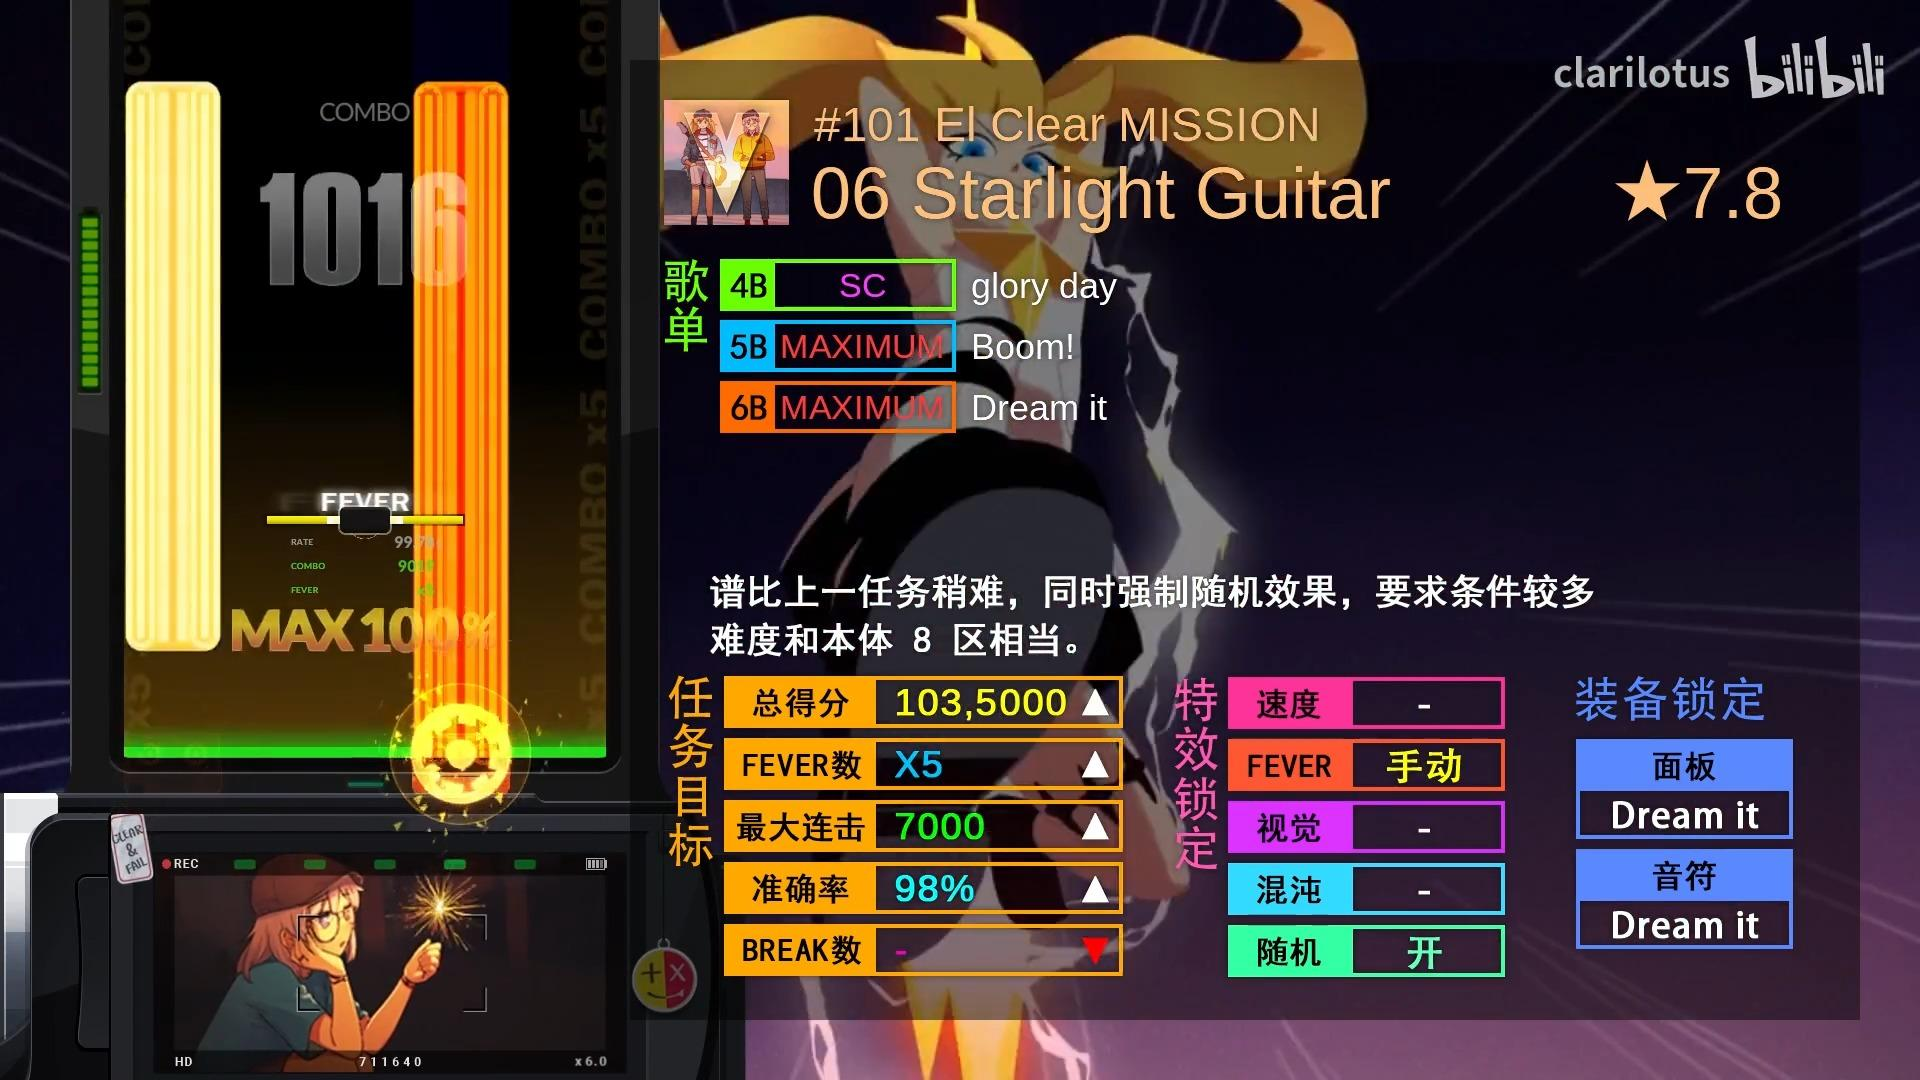hold-end: (411, 82, 510, 124), (124, 82, 222, 119)
hold-start: (123, 611, 222, 650)
